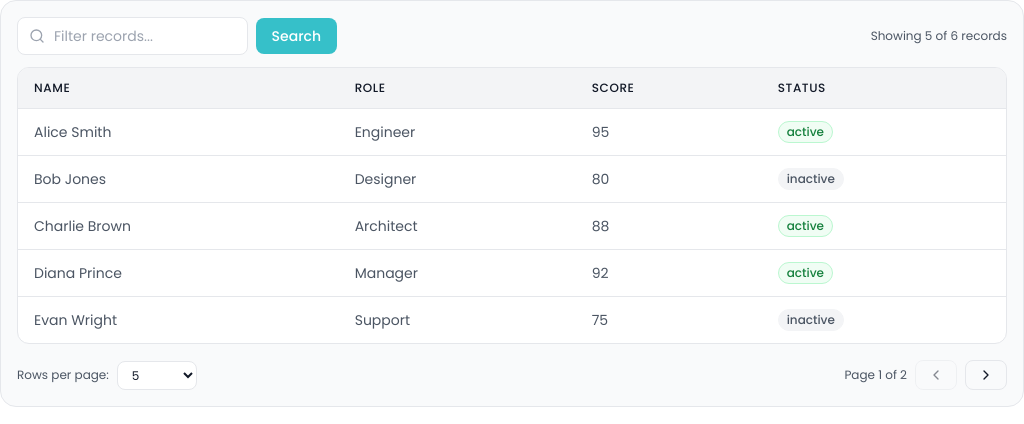
Test case: DataTable › navigates pagination pages
Step 1. Click the button named "Next page" → (986, 375), box [965,360,1007,390]
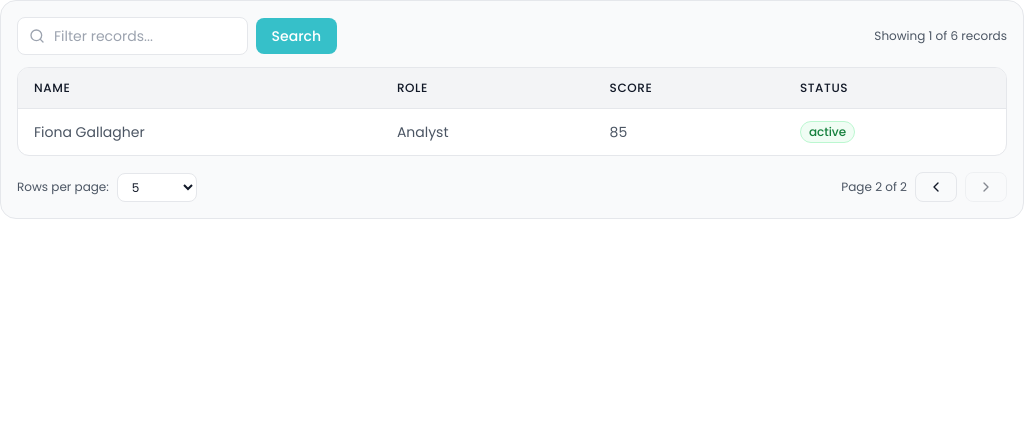
Expected: the text "Page 2 of 2" is shown, [841,179,907,195]
Expected: the text "Fiona Gallagher" is shown, [18,108,381,155]
Expected: the text "Alice Smith" is gone
Step 2. Click the button named "Previous page" → (936, 187), box [915,172,957,202]
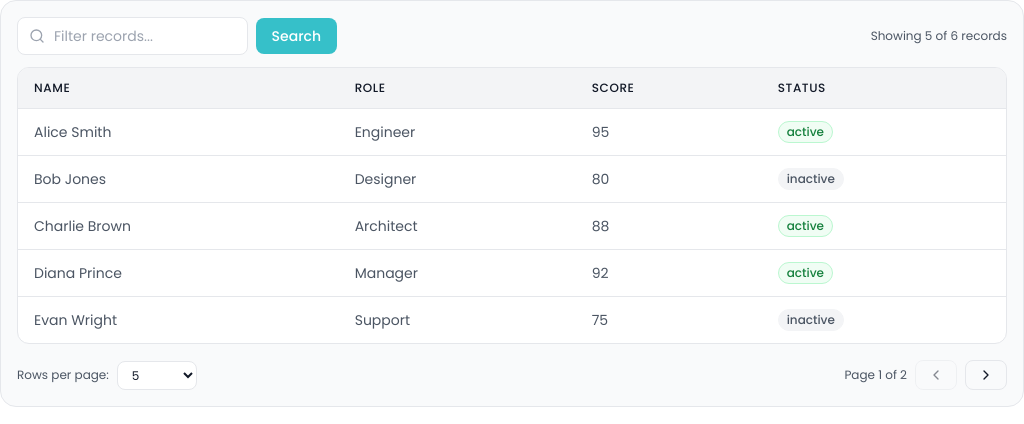
Expected: the text "Alice Smith" is shown, [18,108,339,156]
